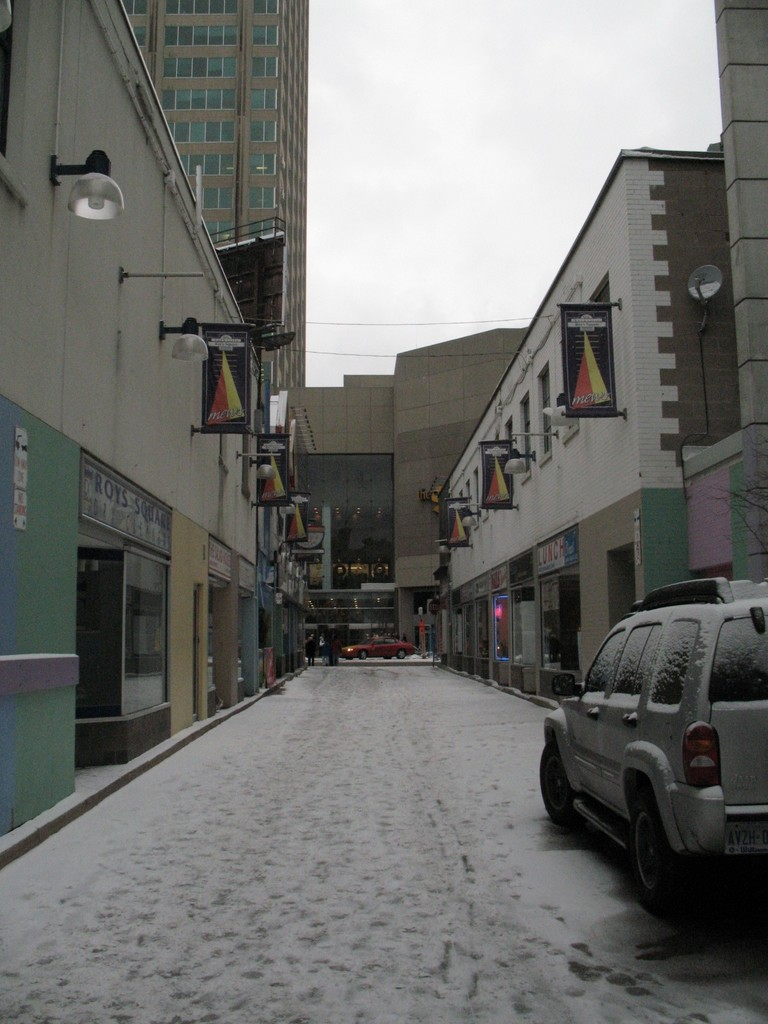Car: (538, 572, 762, 915), (337, 634, 414, 660)
